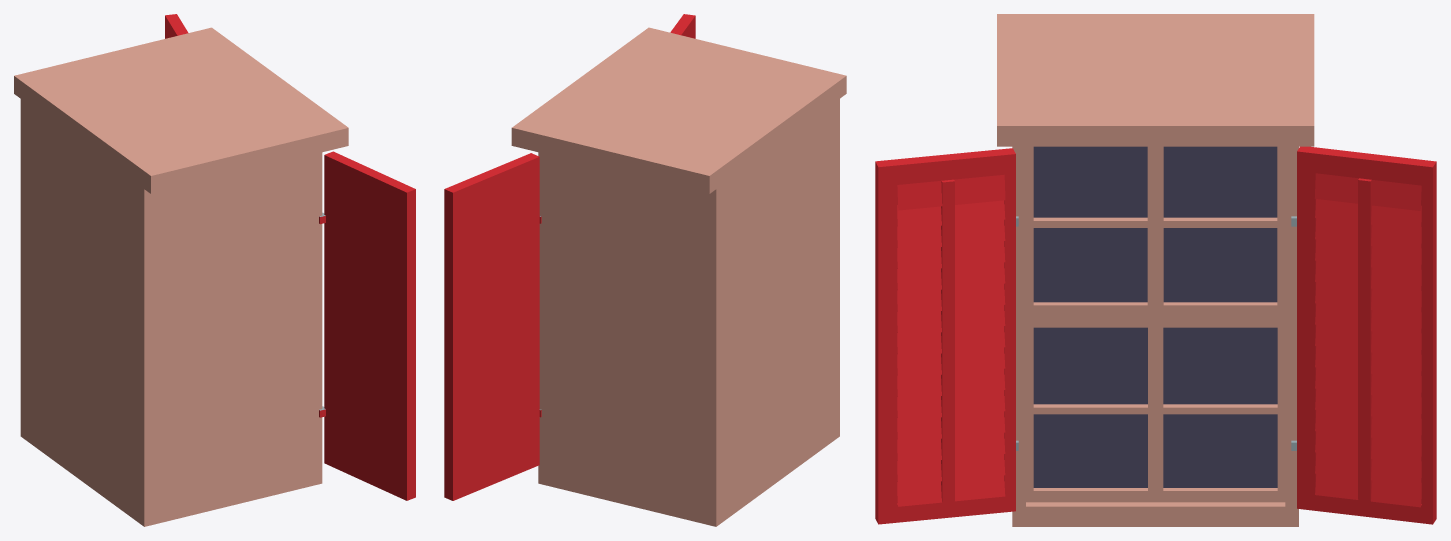
The model's file is stucco_window_001.fbx.
3 renders of one model, left to right at view 1: azimuth 30°, elevation 25°; view 2: azimuth 150°, elevation 25°; view 3: azimuth 270°, elevation 25°, orthographic. The views are drawn at different scales.
Parts seen in each view (by area): view 1: window_stocco_001.001; view 2: window_stocco_001.001; view 3: window_stocco_001.001.
Boxes of the visible parts, <box> form: window_stocco_001.001: <box>14,14,415,526</box>; window_stocco_001.001: <box>444,14,846,526</box>; window_stocco_001.001: <box>875,14,1436,526</box>.
Bounding box in the file's own units: 126 × 200 × 247.
